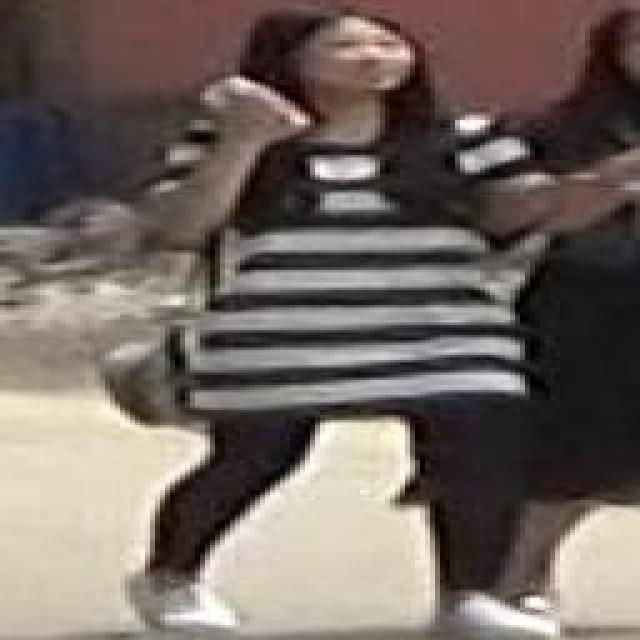adult: (137, 6, 557, 640)
